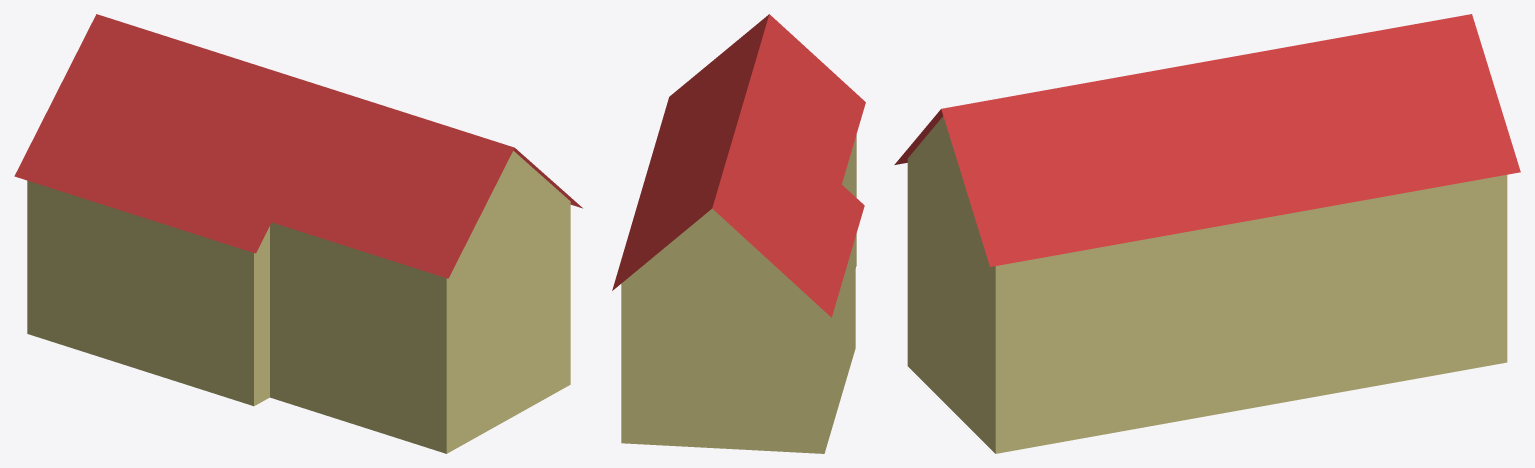
The picture shows the model from 3 angles, left to right: view 1: azimuth 30°, elevation 25°; view 2: azimuth 150°, elevation 25°; view 3: azimuth 270°, elevation 25°; orthographic projection. The views are drawn at different scales.
Size of the model in its own units: 23.2 by 30.43 by 16.18.
